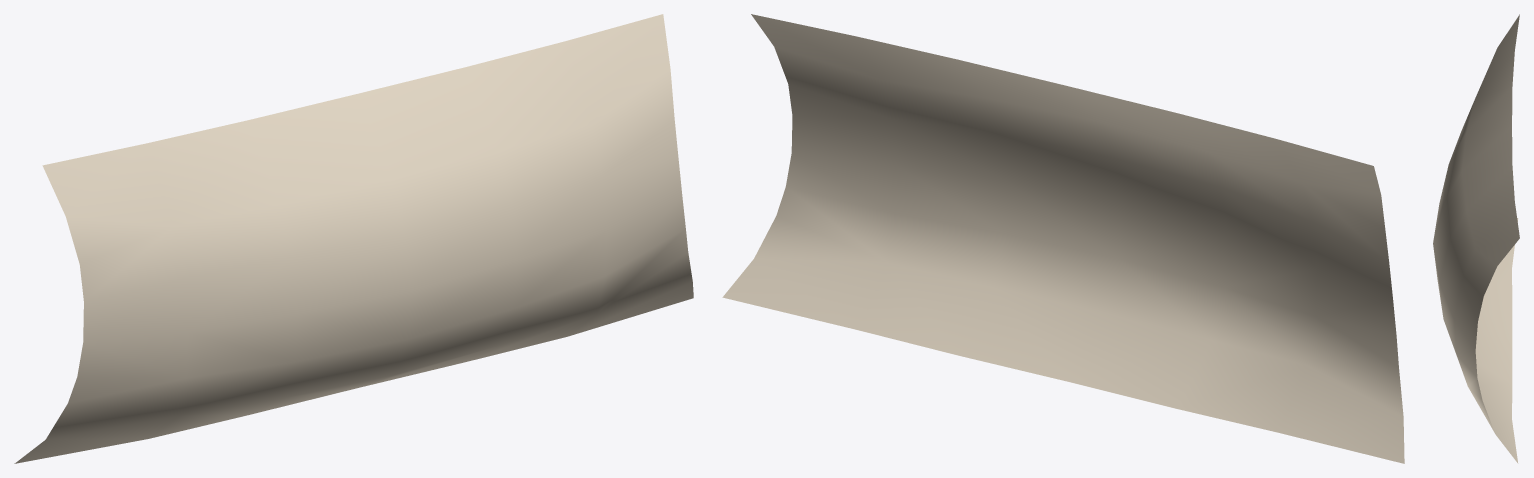
File: cloth-base.glb
3 renders of one model, left to right at view 1: azimuth 30°, elevation 25°; view 2: azimuth 150°, elevation 25°; view 3: azimuth 270°, elevation 25°, orthographic. The views are drawn at different scales.
Bounding box in the file's own units: 5.64 × 2.34 × 0.8441.
